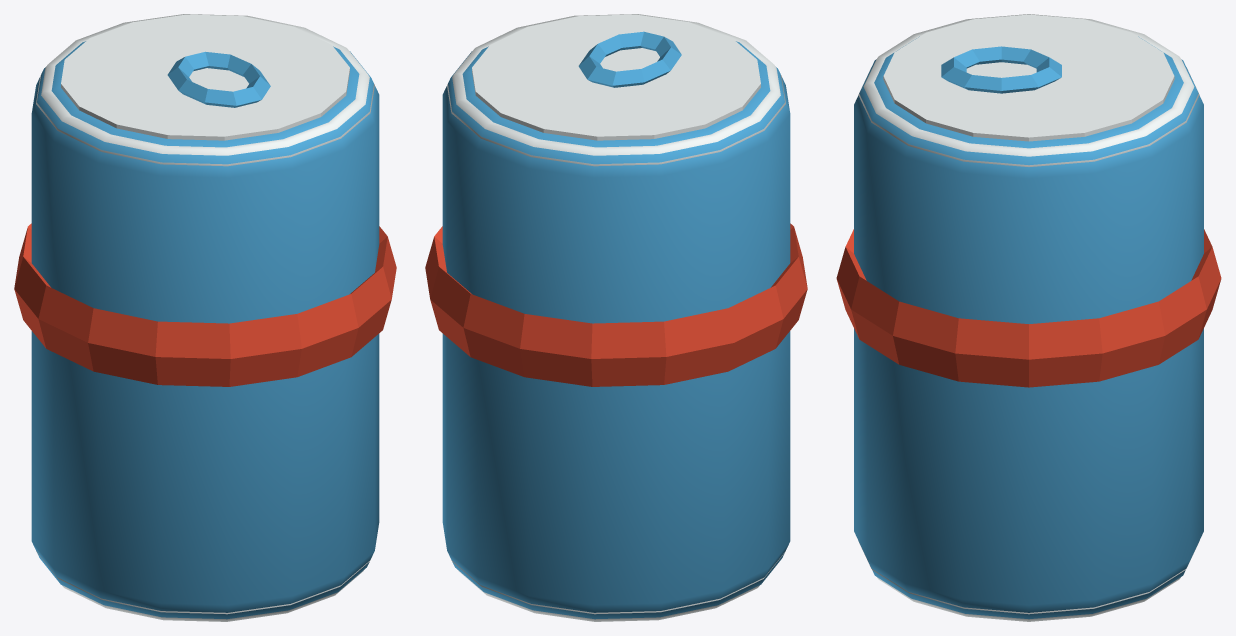
Rendered from DrinkCan.glb.
3 views of the same model, side by side, from view 1: azimuth 30°, elevation 25°; view 2: azimuth 150°, elevation 25°; view 3: azimuth 270°, elevation 25° (orthographic).
Visible parts, largest first — view 1: DrinkCan; view 2: DrinkCan; view 3: DrinkCan.
Part boxes in pixels (x1,y1,x2,y2): DrinkCan: [14, 14, 396, 621]; DrinkCan: [425, 14, 807, 621]; DrinkCan: [836, 14, 1221, 621].
Bounding box in the file's own units: 0.2746 × 0.3884 × 0.2746.
